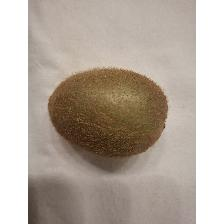Kiwi: (46, 62, 172, 160)
